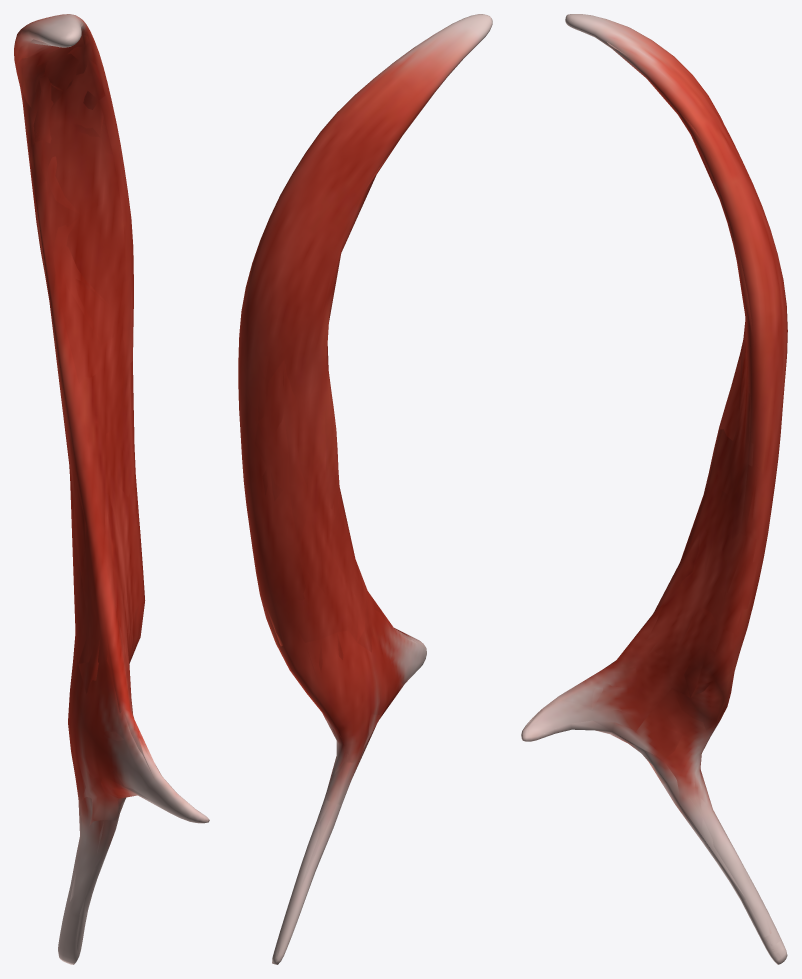
File: L Semitendinosus.fbx
3 views of the same model, side by side, from view 1: azimuth 30°, elevation 25°; view 2: azimuth 150°, elevation 25°; view 3: azimuth 270°, elevation 25° (orthographic). The views are drawn at different scales.
Visible parts, largest first — view 1: L Semitendinosus, L Semitendinosus low; view 2: L Semitendinosus, L Semitendinosus low; view 3: L Semitendinosus, L Semitendinosus low.
Part boxes in pixels (left/top/right/bottom): L Semitendinosus: left=14, top=14, right=209, bottom=964; L Semitendinosus low: left=16, top=23, right=207, bottom=952; L Semitendinosus: left=238, top=14, right=492, bottom=964; L Semitendinosus low: left=240, top=73, right=442, bottom=963; L Semitendinosus: left=521, top=14, right=787, bottom=964; L Semitendinosus low: left=521, top=27, right=787, bottom=964.
Bounding box in the file's own units: 16.84 × 90.6 × 24.37.
